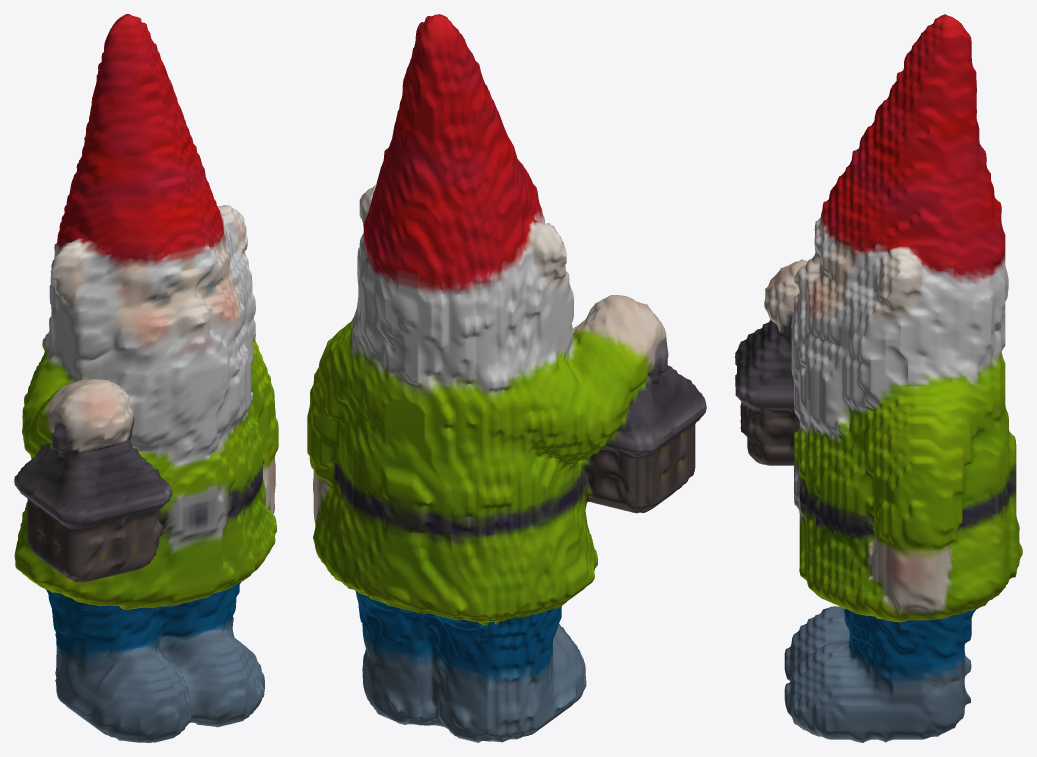
The model's file is garden-gnome.glb.
The picture shows the model from 3 angles, left to right: view 1: azimuth 30°, elevation 25°; view 2: azimuth 150°, elevation 25°; view 3: azimuth 270°, elevation 25°; orthographic projection. The views are drawn at different scales.
Parts seen in each view (by area): view 1: garden-gnome; view 2: garden-gnome; view 3: garden-gnome.
Part boxes in pixels (x1,y1,x2,y2): garden-gnome: [14, 14, 278, 742]; garden-gnome: [307, 14, 706, 742]; garden-gnome: [735, 14, 1022, 742].
Size of the model in its own units: 0.0454 by 0.1 by 0.0376.
